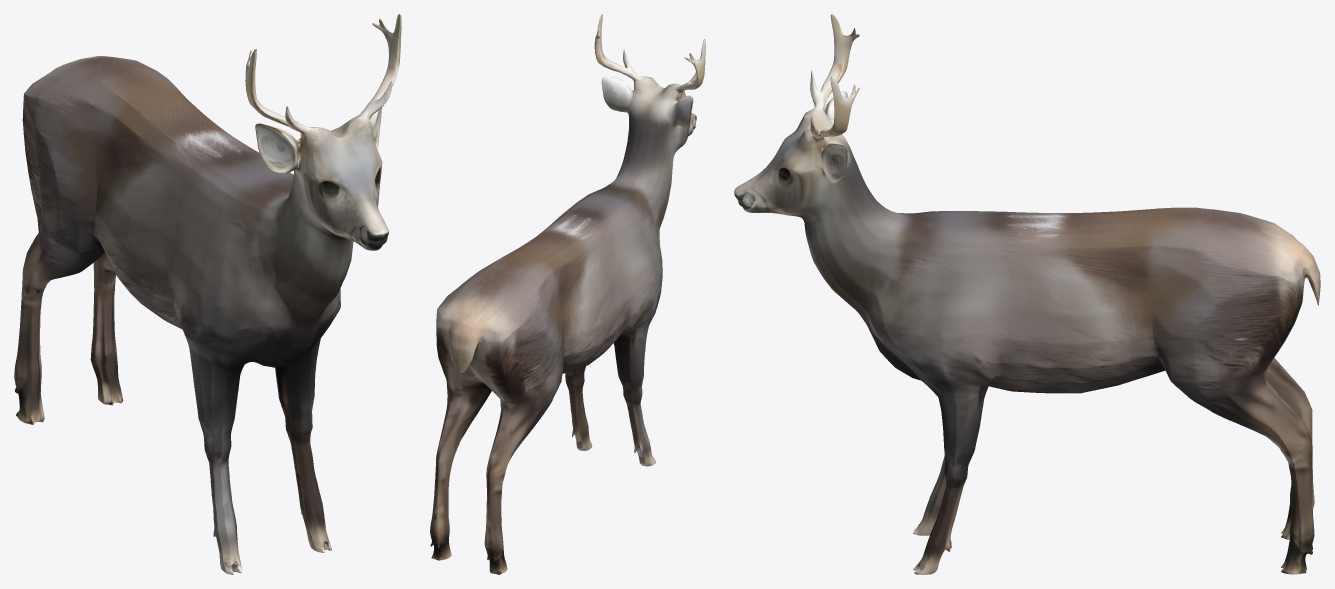
File: rusa.fbx
The picture shows the model from 3 angles, left to right: view 1: azimuth 30°, elevation 25°; view 2: azimuth 150°, elevation 25°; view 3: azimuth 270°, elevation 25°; orthographic projection. The views are drawn at different scales.
Parts seen in each view (by area): view 1: model; view 2: model; view 3: model.
Boxes of the visible parts, x1,y1,x2,y2 form: model: (14, 14, 401, 574); model: (430, 14, 705, 574); model: (734, 14, 1320, 574).
Size of the model in its own units: 49.91 by 181 by 190.
